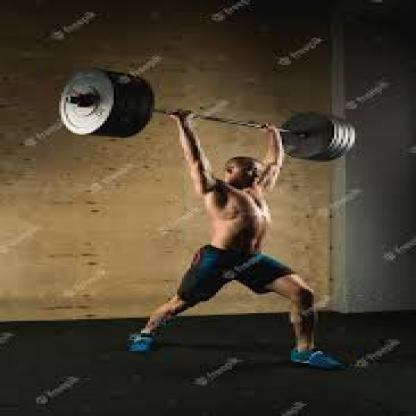barbell: (60, 66, 357, 164)
